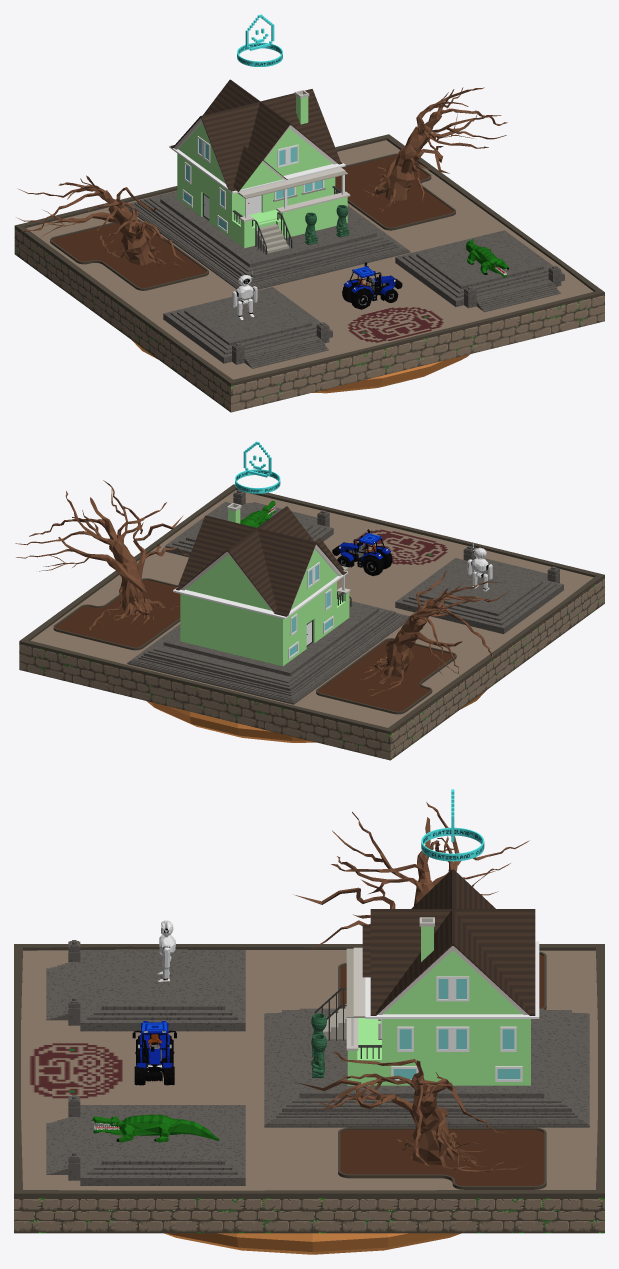
3 views of the same model, one above another, from view 1: azimuth 30°, elevation 25°; view 2: azimuth 150°, elevation 25°; view 3: azimuth 270°, elevation 25° (orthographic). The views are drawn at different scales.
Parts seen in each view (by area): view 1: Cube.011, Cube.274, VEHICLES_TRACTOR, UNDERGROUND_PIZZA, TYPE_PREMIUM, ANIMAL_COCODRILO, OBJRANDOM_PLATZEEBOT; view 2: Cube.011, Cube.274, UNDERGROUND_PIZZA, VEHICLES_TRACTOR, TYPE_PREMIUM, OBJRANDOM_PLATZEEBOT, ANIMAL_COCODRILO; view 3: Cube.011, Cube.274, UNDERGROUND_PIZZA, VEHICLES_TRACTOR, ANIMAL_COCODRILO, TYPE_PREMIUM, OBJRANDOM_PLATZEEBOT.
Part boxes in pixels (bbox=[...]): Cube.011: bbox=[14, 87, 604, 412]; Cube.274: bbox=[169, 79, 350, 254]; VEHICLES_TRACTOR: bbox=[342, 262, 402, 309]; UNDERGROUND_PIZZA: bbox=[132, 340, 470, 393]; TYPE_PREMIUM: bbox=[237, 14, 282, 66]; ANIMAL_COCODRILO: bbox=[465, 239, 508, 277]; OBJRANDOM_PLATZEEBOT: bbox=[232, 270, 257, 319]; Cube.011: bbox=[15, 480, 604, 760]; Cube.274: bbox=[173, 503, 351, 666]; UNDERGROUND_PIZZA: bbox=[146, 690, 486, 742]; VEHICLES_TRACTOR: bbox=[332, 529, 392, 576]; TYPE_PREMIUM: bbox=[235, 441, 280, 493]; OBJRANDOM_PLATZEEBOT: bbox=[467, 543, 492, 591]; ANIMAL_COCODRILO: bbox=[240, 500, 275, 527]; Cube.011: bbox=[14, 802, 604, 1233]; Cube.274: bbox=[314, 869, 539, 1085]; UNDERGROUND_PIZZA: bbox=[164, 1233, 461, 1254]; VEHICLES_TRACTOR: bbox=[132, 1021, 176, 1085]; ANIMAL_COCODRILO: bbox=[92, 1114, 219, 1142]; TYPE_PREMIUM: bbox=[421, 789, 484, 861]; OBJRANDOM_PLATZEEBOT: bbox=[158, 920, 175, 981].
Bounding box in the file's own units: 5099 × 2678 × 4000.
Materials: 40 (6 with a texture image).
